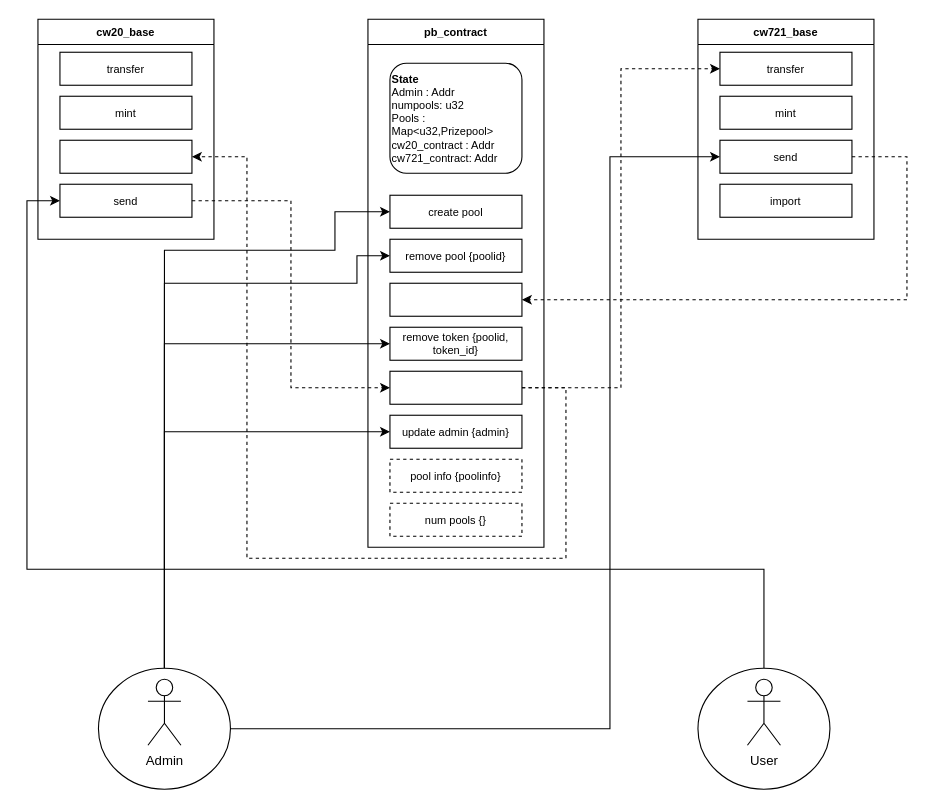
This 935x809 diagram has some shape labels left out. The shapes that lost their labels are listed below. From the top down, each one's centre as x and y in pixels, then its label:
(125,156): burn
(455,299): add token {poolid}
(455,387): redeem token {poolid}
